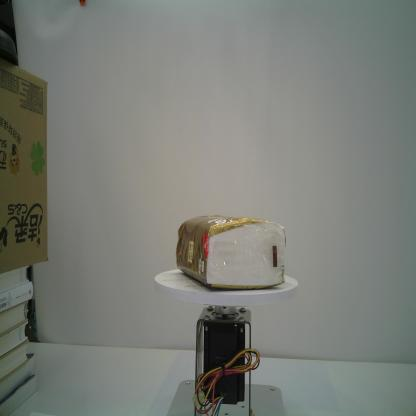Tissue: (176, 215, 286, 290)
